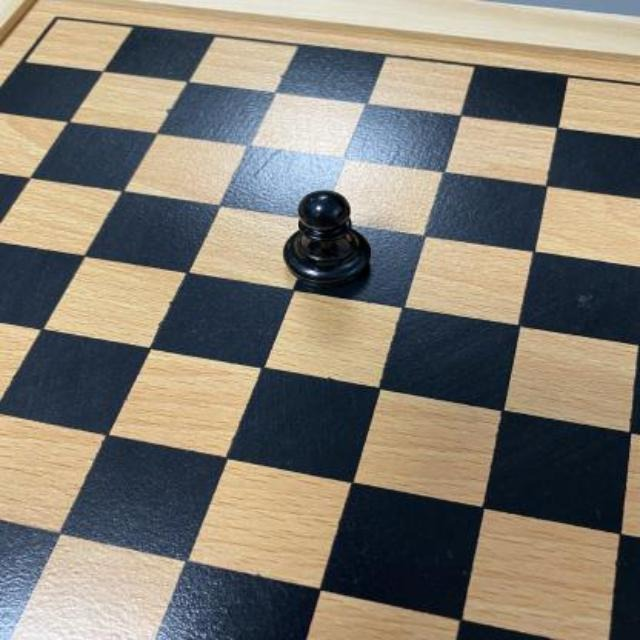black-pawn: (283, 188, 371, 286)
